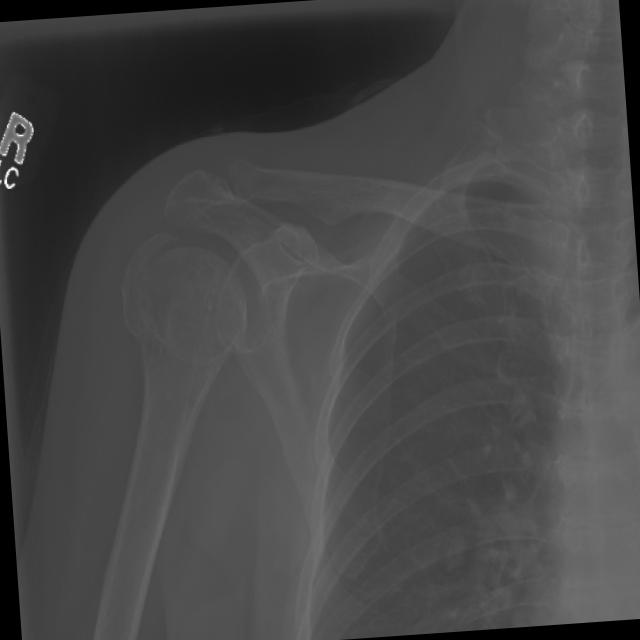shoulder fracture: (96, 216, 224, 310)
